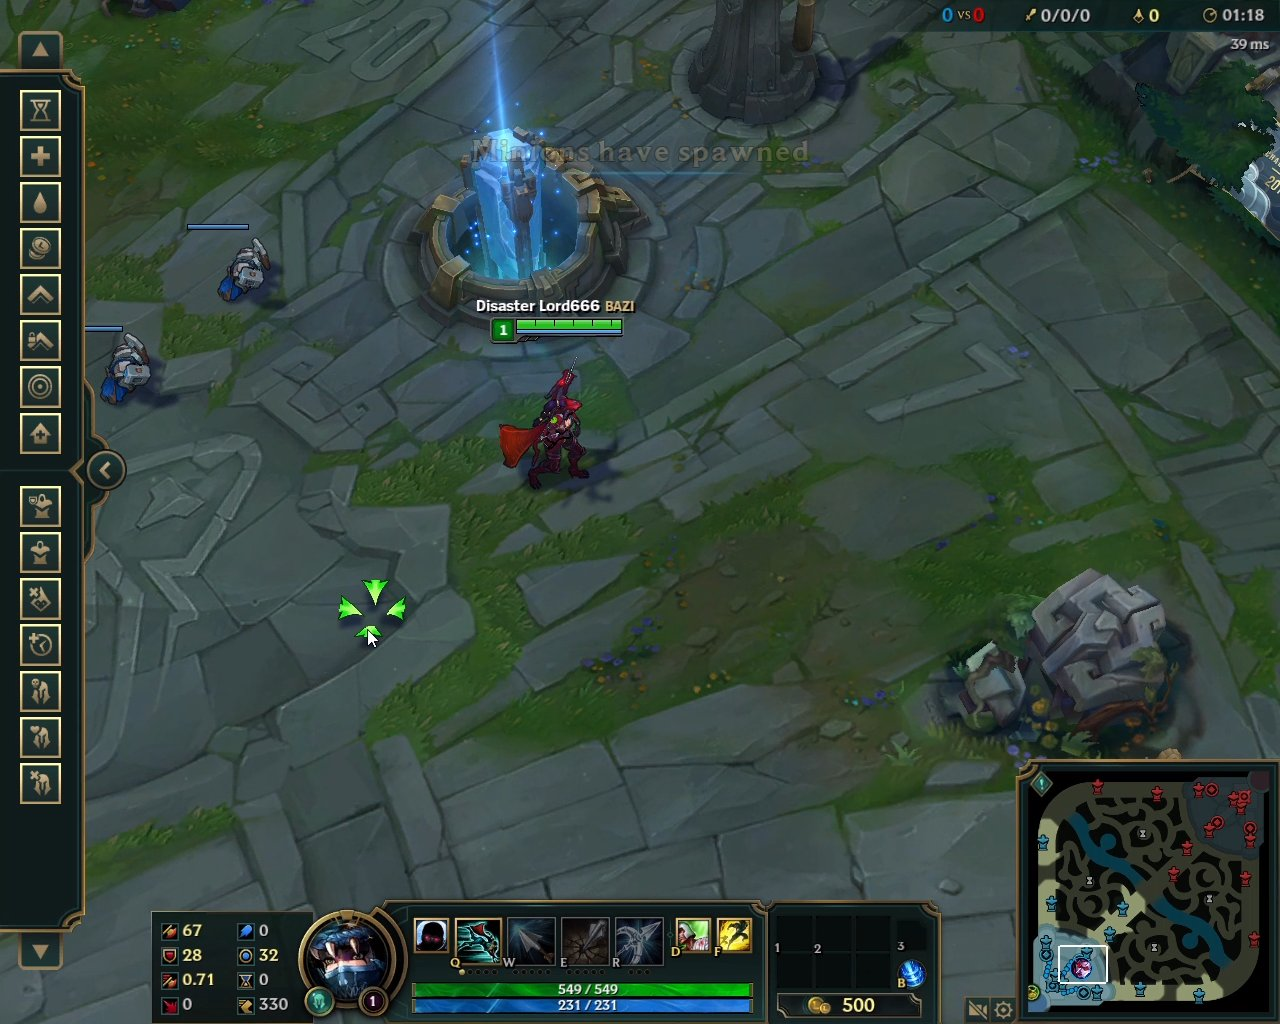Vayne: (496, 354, 600, 493)
